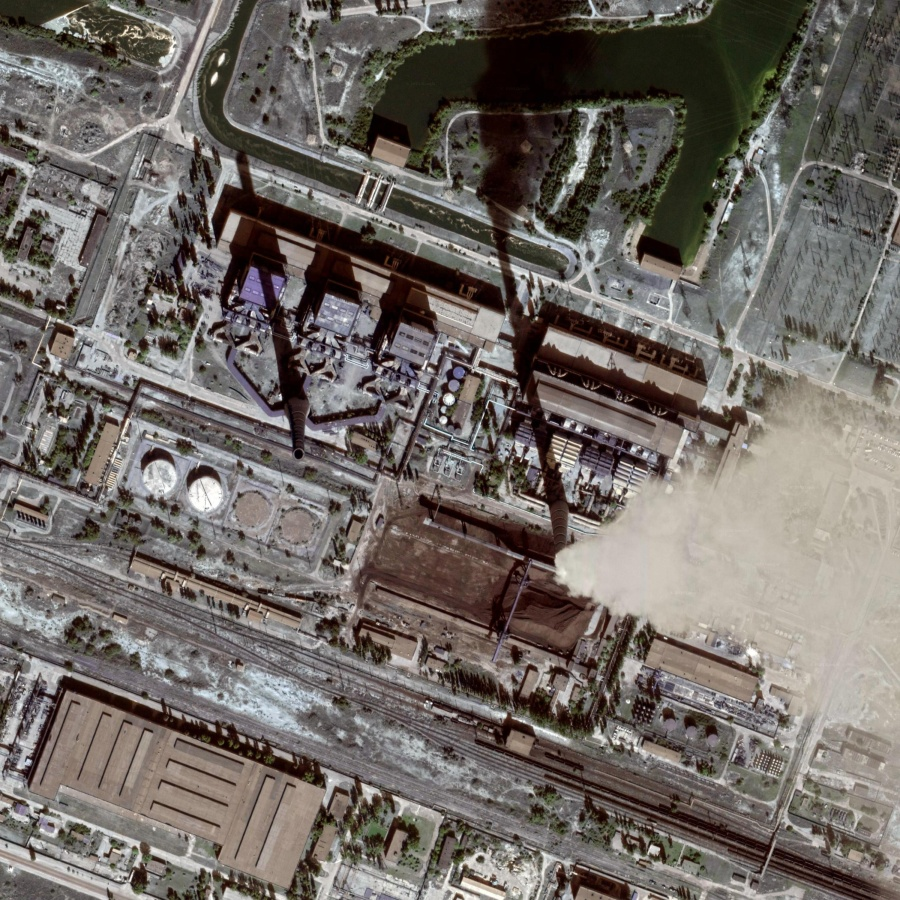PowerPlant: (134, 142, 761, 651)
